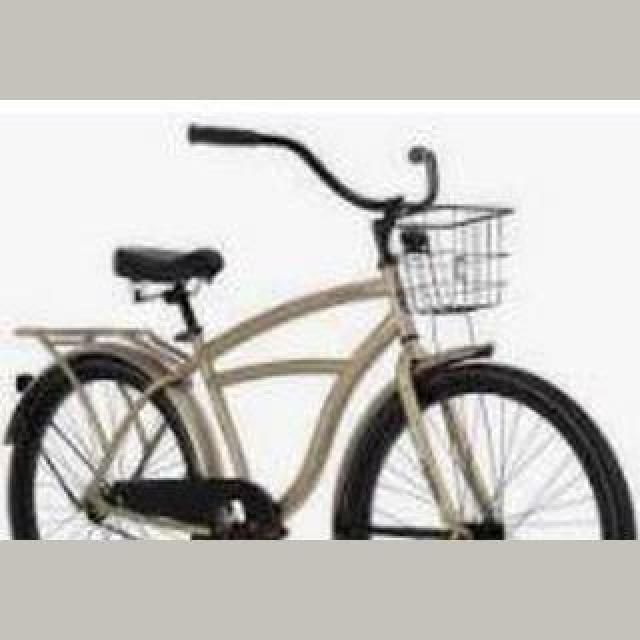Person: (0, 124, 640, 540)
